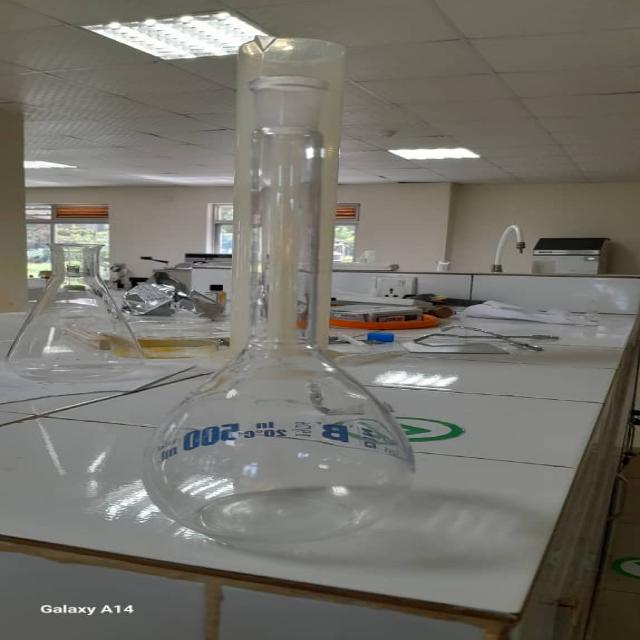Volumetric flask: (138, 70, 428, 546)
